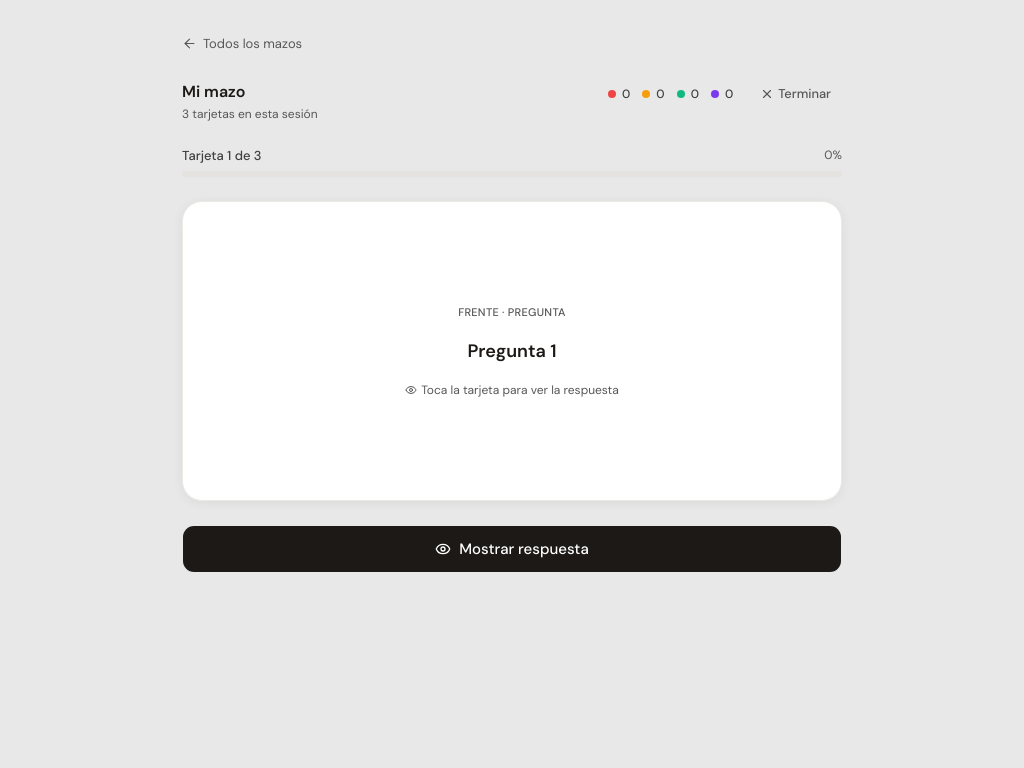
Test: FlashcardPlayer › ends the session early from 'Terminar' counting only rated cards
Click the button with test id "flip-card" at [512, 351], box [182,201,842,501]
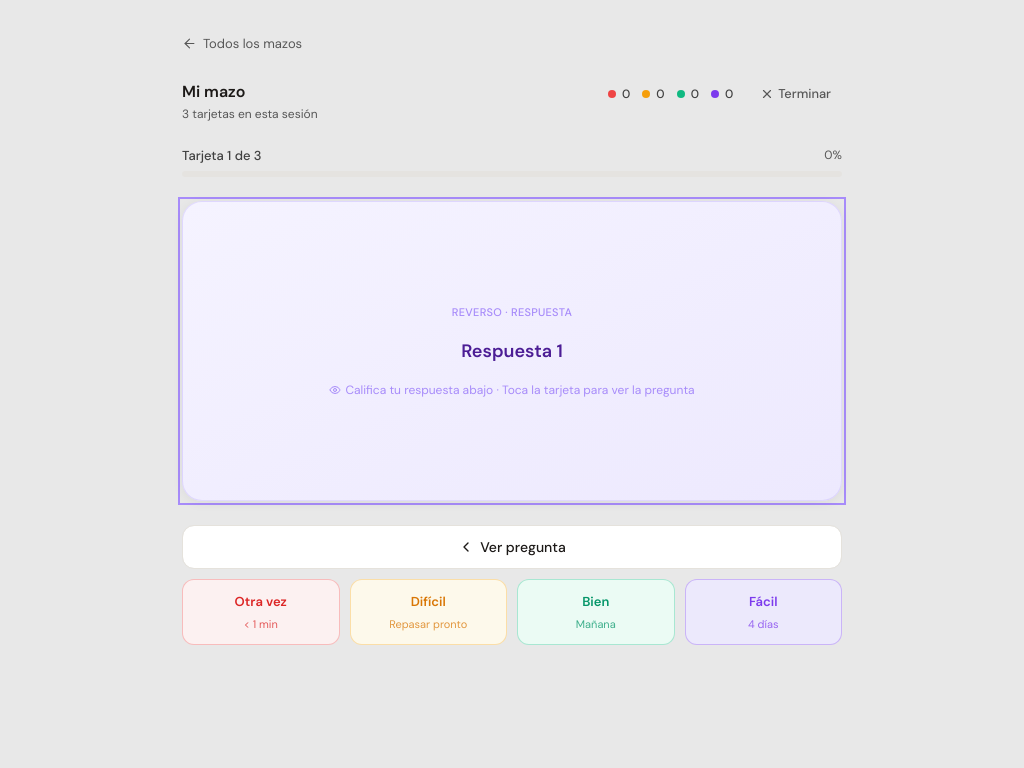
Click the button with test id "rate-good" at [596, 612], box [517,579,674,645]
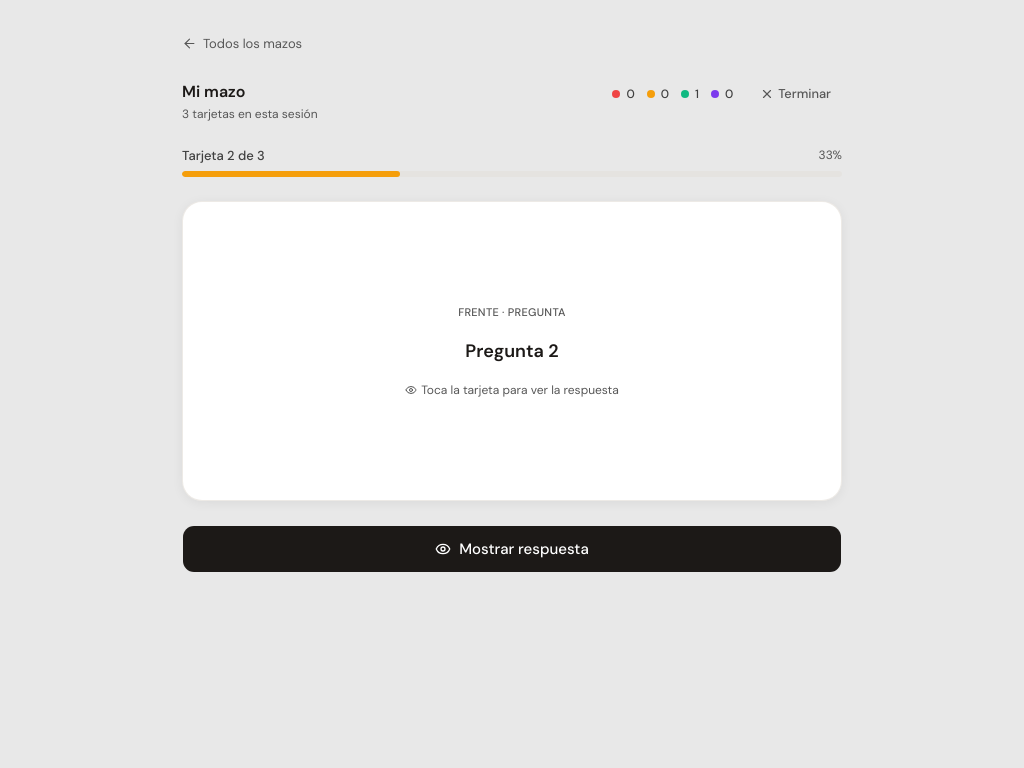
Click the button "Terminar" at [796, 94], box [749,80,842,108]
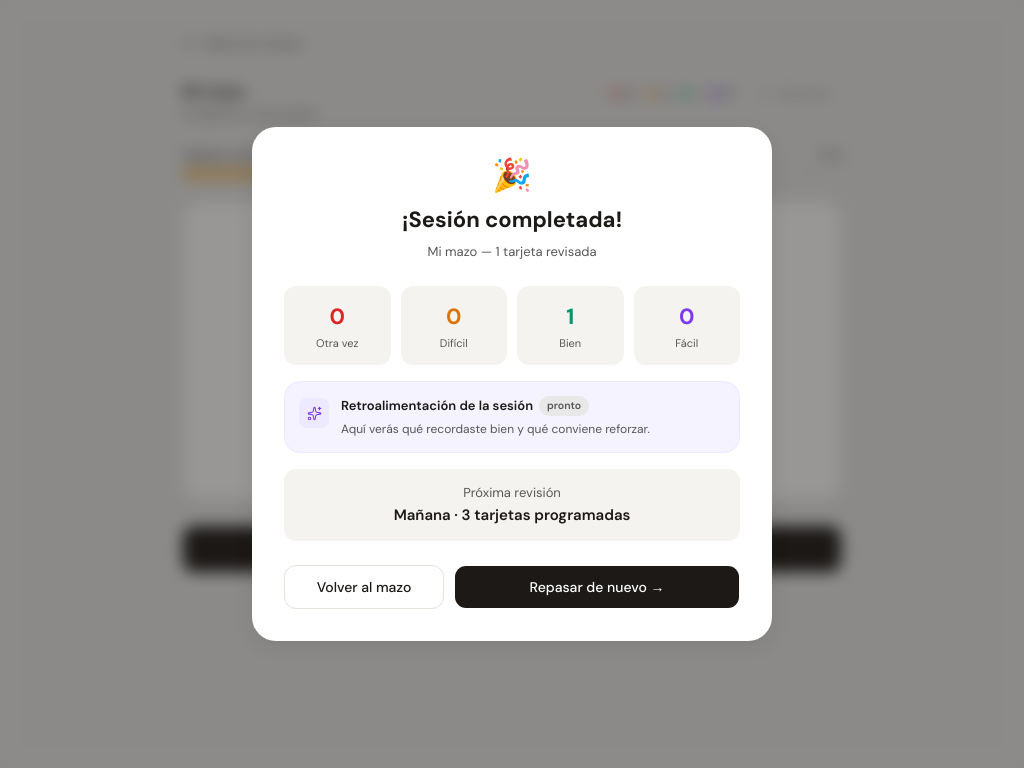
Expected: the dialog shows "Mi mazo — 1 tarjeta revisada", [428,243,596,260]
